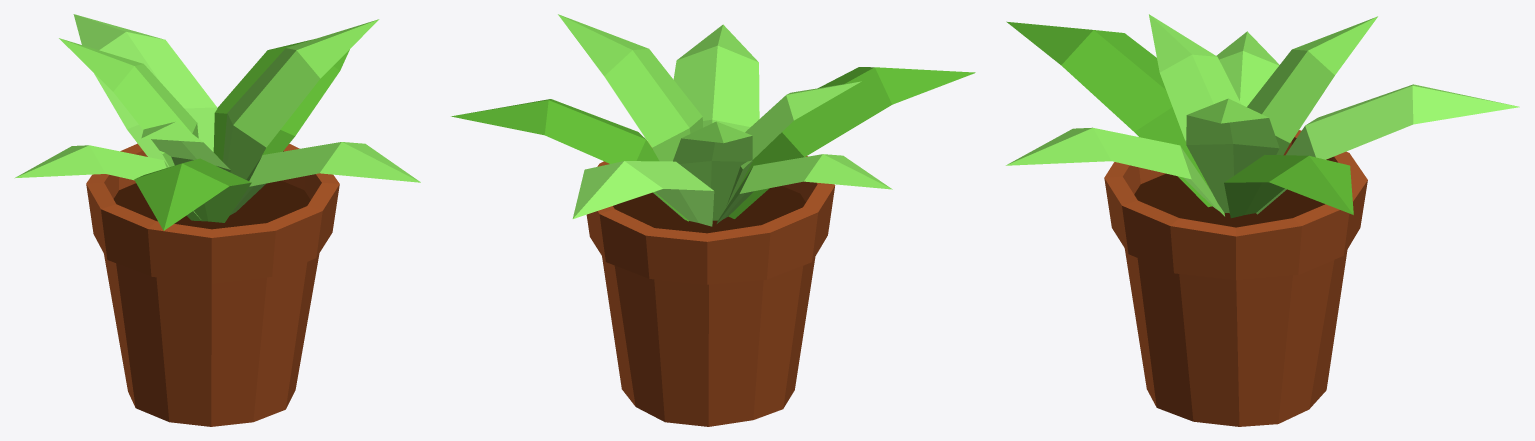
The model's file is Succulent.glb.
3 views of the same model, side by side, from view 1: azimuth 30°, elevation 25°; view 2: azimuth 150°, elevation 25°; view 3: azimuth 270°, elevation 25° (orthographic). The views are drawn at different scales.
Parts seen in each view (by area): view 1: Succulant; view 2: Succulant; view 3: Succulant.
Part boxes in pixels (<box>): Succulant: <box>14,14,420,426</box>; Succulant: <box>451,14,975,426</box>; Succulant: <box>1006,14,1519,426</box>.
Size of the model in its own units: 0.2269 by 0.1842 by 0.2478.
Materials: 1 (1 with a texture image).
